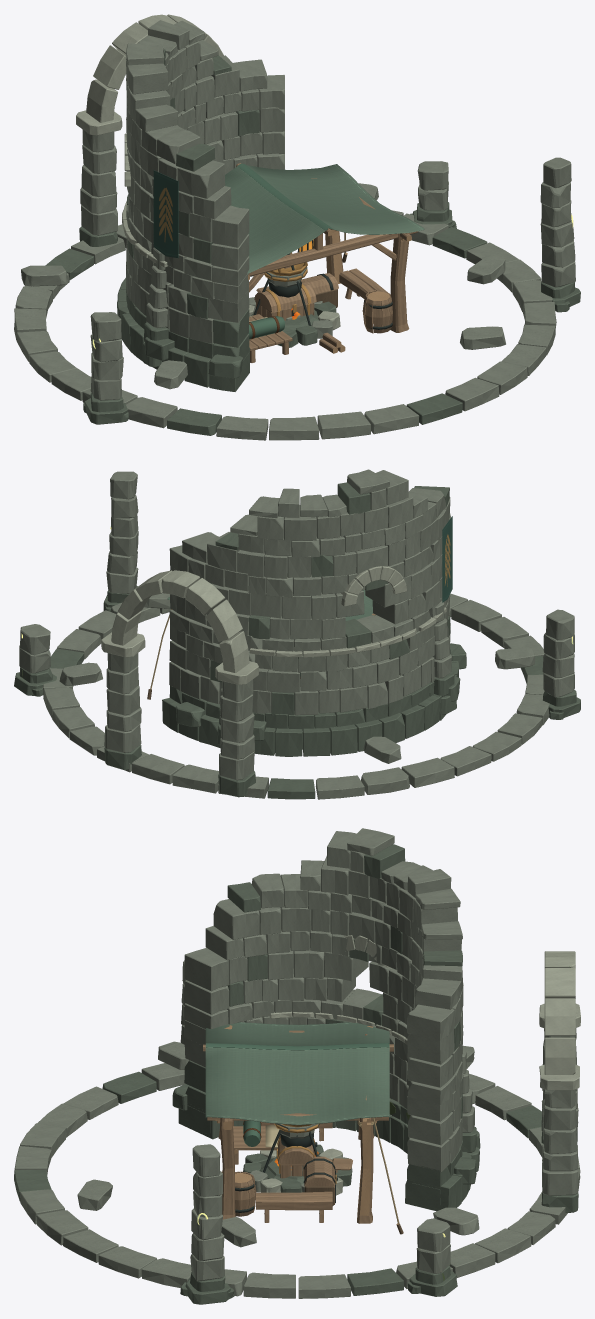
File: architecture-low-r9.glb
The picture shows the model from 3 angles, top to bottom: view 1: azimuth 30°, elevation 25°; view 2: azimuth 150°, elevation 25°; view 3: azimuth 270°, elevation 25°; orthographic projection. The views are drawn at different scales.
Visible parts, largest first — view 1: watchtower_r8_mesh, moonSanctum_r8_mesh, campShelter_r8_mesh, hearth_r8_mesh, relicStand_r8_mesh, chestLid_r8_mesh; view 2: watchtower_r8_mesh, moonSanctum_r8_mesh, campShelter_r8_mesh; view 3: watchtower_r8_mesh, moonSanctum_r8_mesh, campShelter_r8_mesh, hearth_r8_mesh, relicStand_r8_mesh, chestLid_r8_mesh.
Boxes of the visible parts, x1,y1,x2,y2 form: watchtower_r8_mesh: (21, 20, 505, 391); moonSanctum_r8_mesh: (14, 14, 580, 440); campShelter_r8_mesh: (225, 163, 424, 362); hearth_r8_mesh: (249, 253, 387, 347); relicStand_r8_mesh: (251, 252, 318, 331); chestLid_r8_mesh: (254, 281, 316, 312); watchtower_r8_mesh: (59, 469, 535, 763); moonSanctum_r8_mesh: (14, 471, 580, 799); campShelter_r8_mesh: (147, 590, 375, 699); watchtower_r8_mesh: (77, 828, 480, 1247); moonSanctum_r8_mesh: (14, 951, 580, 1304); campShelter_r8_mesh: (203, 1022, 403, 1234); hearth_r8_mesh: (243, 1122, 352, 1222); relicStand_r8_mesh: (261, 1123, 319, 1184); chestLid_r8_mesh: (276, 1135, 317, 1163).
Bounding box in the file's own units: 14.11 × 7.56 × 13.48.
Materials: 4 (4 with a texture image).
